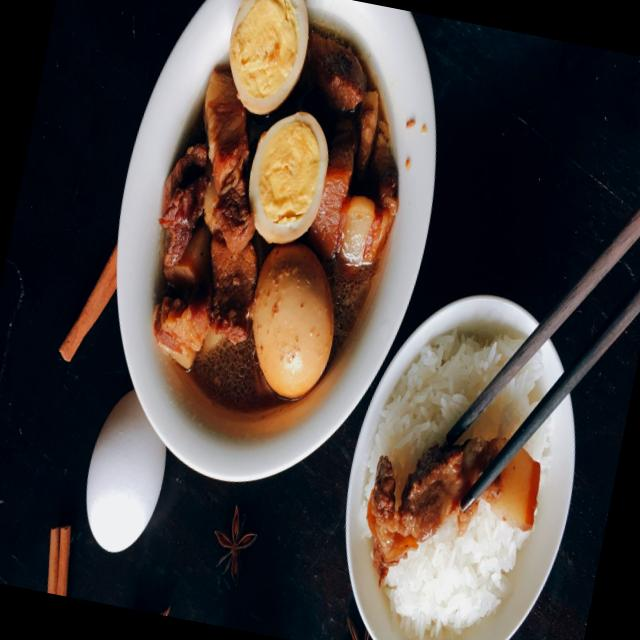com: (359, 329, 523, 540), (382, 499, 531, 640), (474, 353, 545, 440), (526, 420, 552, 483)
kho trung: (153, 0, 399, 408), (367, 438, 505, 583), (481, 449, 541, 531)
